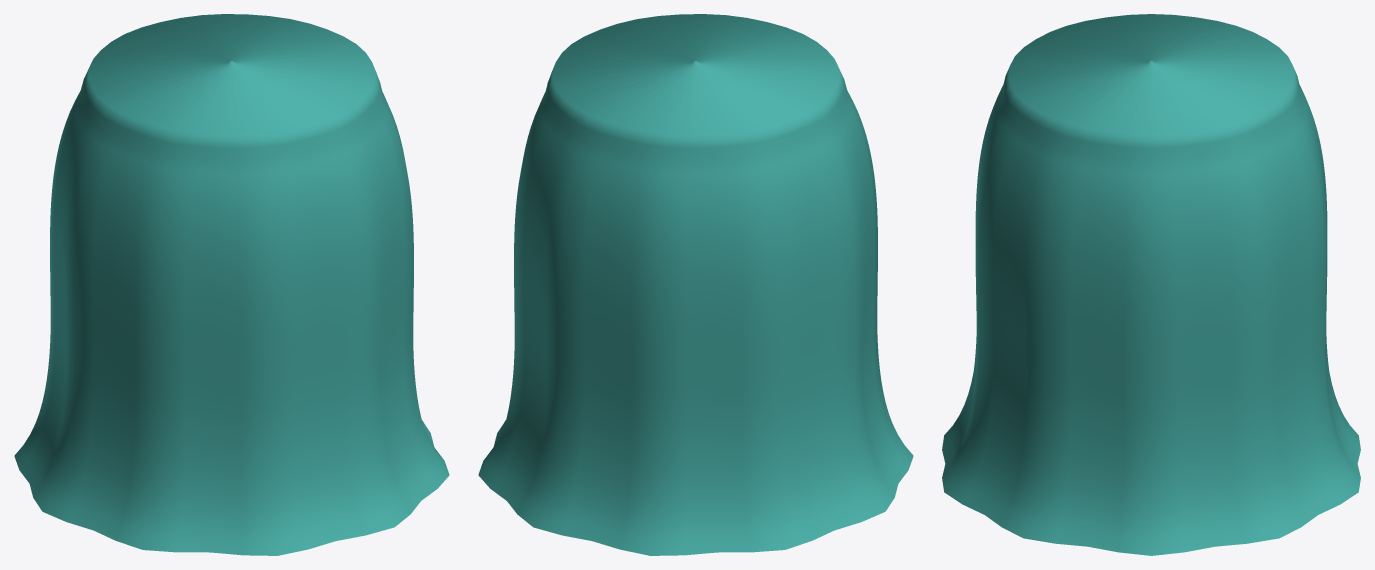
The model's file is body.glb.
The picture shows the model from 3 angles, left to right: view 1: azimuth 30°, elevation 25°; view 2: azimuth 150°, elevation 25°; view 3: azimuth 270°, elevation 25°; orthographic projection.
Parts seen in each view (by area): view 1: BodyBell; view 2: BodyBell; view 3: BodyBell.
Part boxes in pixels (box(x1,y1,x2,y2)): BodyBell: box(14, 14, 449, 555); BodyBell: box(478, 14, 913, 555); BodyBell: box(942, 14, 1360, 555).
Bounding box in the file's own units: 0.4934 × 0.574 × 0.4741.
